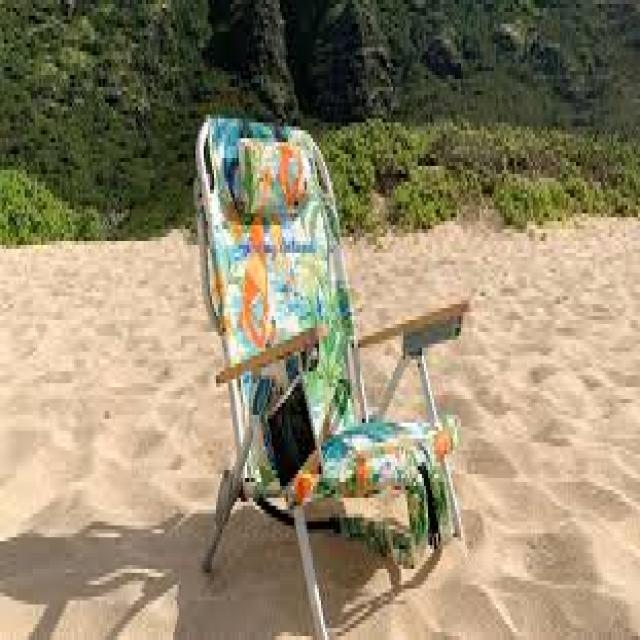chair: (150, 71, 490, 640)
